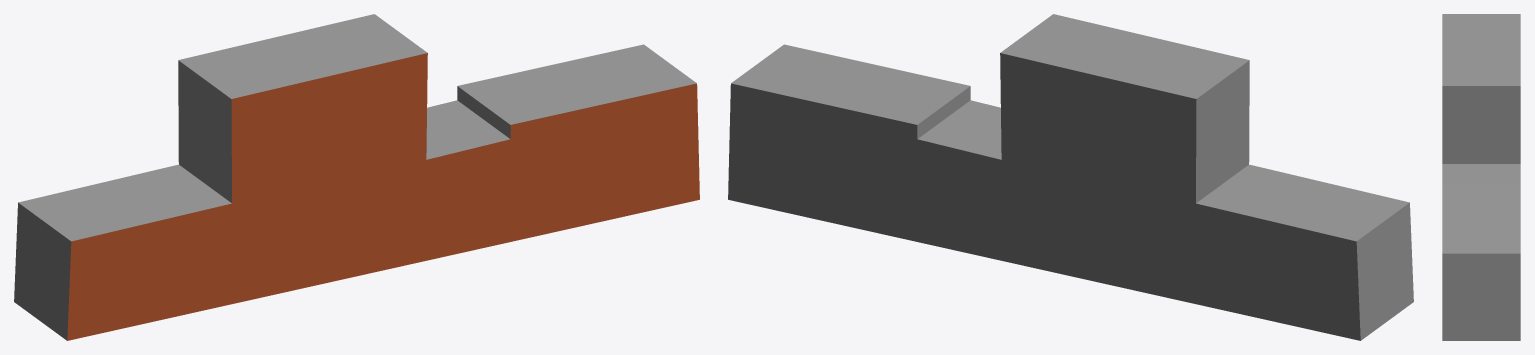
The model's file is construction_3253_assumed_A_Casa_h6m.obj.
3 views of the same model, side by side, from view 1: azimuth 30°, elevation 25°; view 2: azimuth 150°, elevation 25°; view 3: azimuth 270°, elevation 25° (orthographic). The views are drawn at different scales.
Parts seen in each view (by area): view 1: construction_3253_assumed_A_Casa; view 2: construction_3253_assumed_A_Casa; view 3: construction_3253_assumed_A_Casa.
Boxes of the visible parts, x1,y1,x2,y2 form: construction_3253_assumed_A_Casa: (14,14,699,340); construction_3253_assumed_A_Casa: (728,14,1413,340); construction_3253_assumed_A_Casa: (1442,14,1520,340).
Bounding box in the file's own units: 41.15 × 13.36 × 6.
